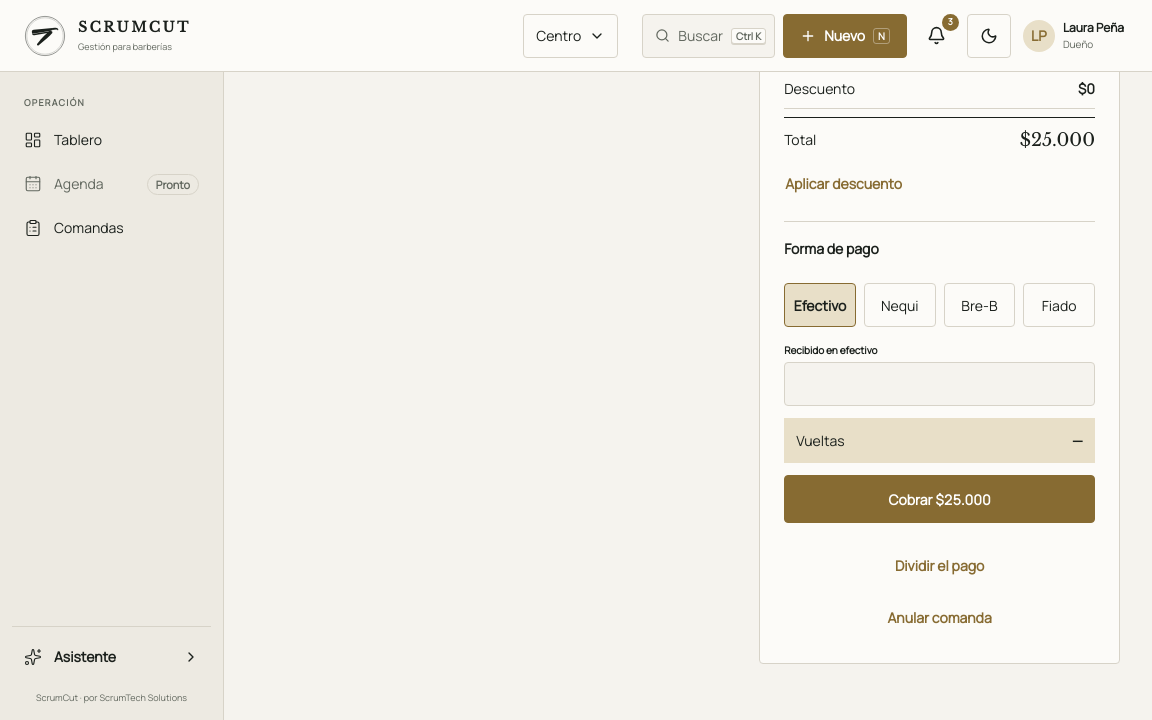
Scenario: cobro de una comanda › el número de partes lo pone el servidor
The width and height of the screenshot is (1152, 720).
(page scrolled)
Click the button "Dividir el pago" at coordinates (940, 565), box [886,543,993,587]
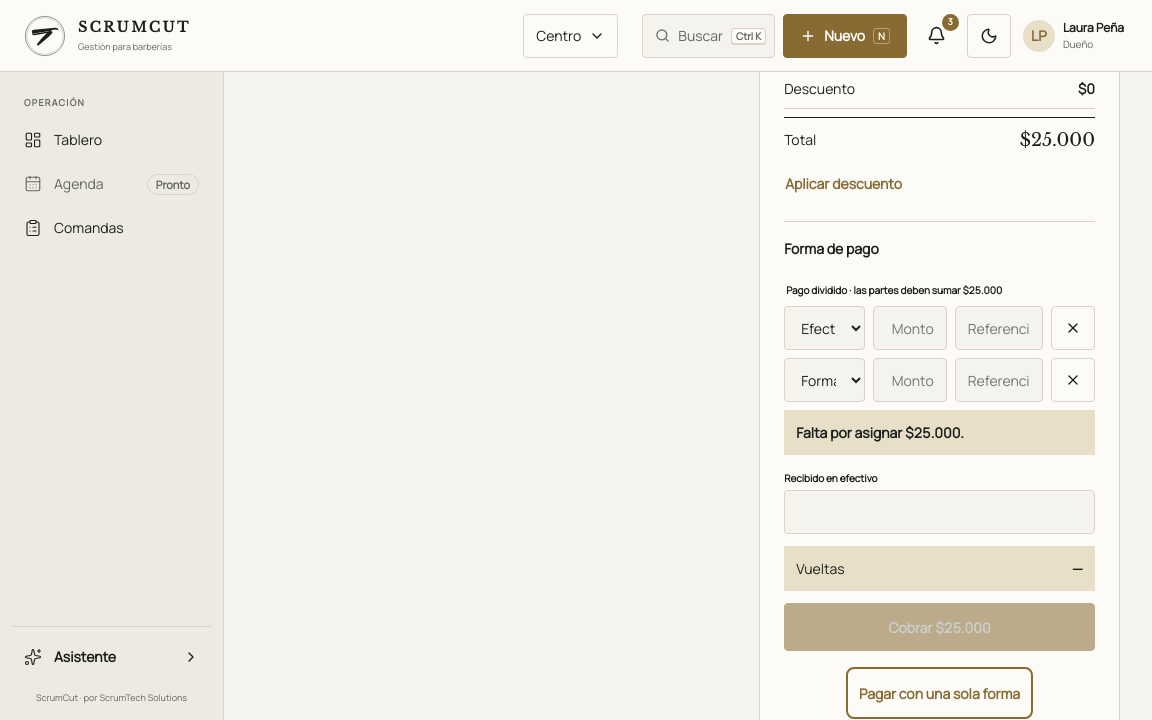
Expected: the field named "Monto de la parte 2" is shown, [873,358,947,402]
